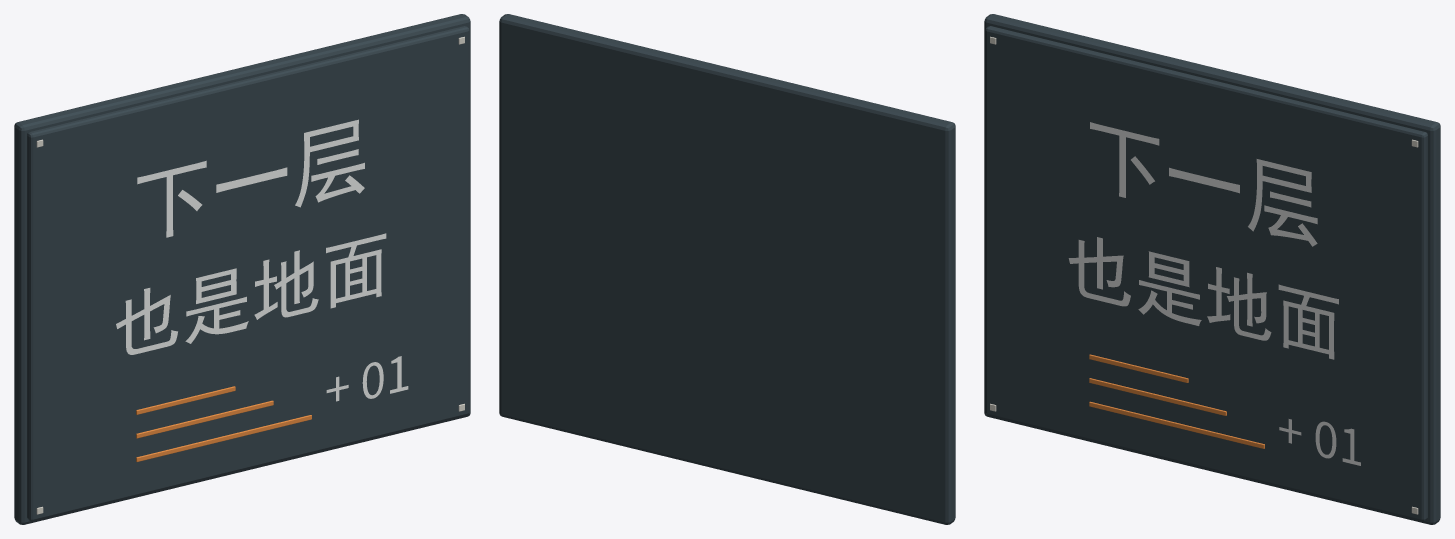
The model's file is WallGround.fbx.
3 renders of one model, left to right at view 1: azimuth 30°, elevation 25°; view 2: azimuth 150°, elevation 25°; view 3: azimuth 330°, elevation 25°, orthographic.
Parts seen in each view (by area): view 1: WallGround_SC_Metal, WallGround_SC_White, WallGround_SC_Orange; view 2: WallGround_SC_Metal; view 3: WallGround_SC_Metal, WallGround_SC_White, WallGround_SC_Orange.
Part boxes in pixels (<box>): WallGround_SC_Metal: <box>14,14,470,524</box>; WallGround_SC_White: <box>116,119,408,401</box>; WallGround_SC_Orange: <box>136,386,311,461</box>; WallGround_SC_Metal: <box>499,14,955,524</box>; WallGround_SC_Metal: <box>984,14,1440,524</box>; WallGround_SC_White: <box>1068,122,1360,465</box>; WallGround_SC_Orange: <box>1089,354,1264,448</box>.
Bounding box in the file's own units: 2.6 × 2.2 × 0.131.
